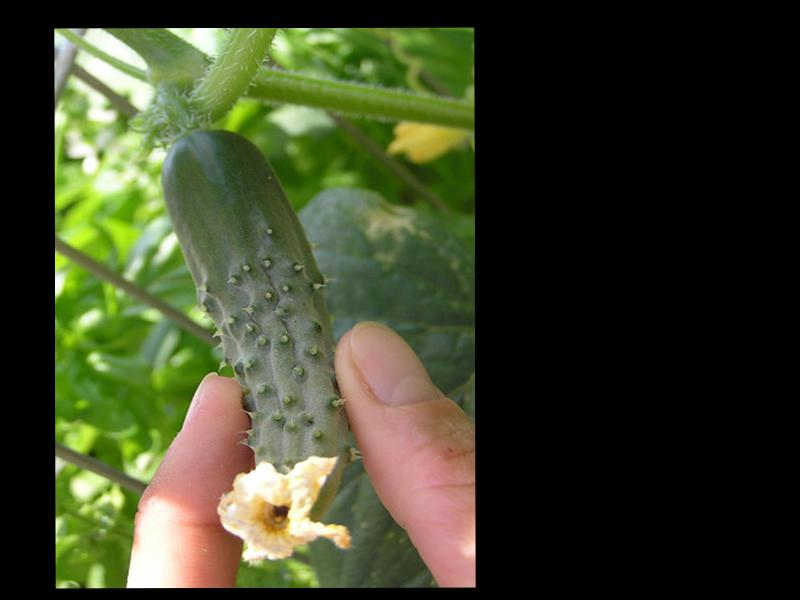Cucumber: (163, 127, 351, 560)
